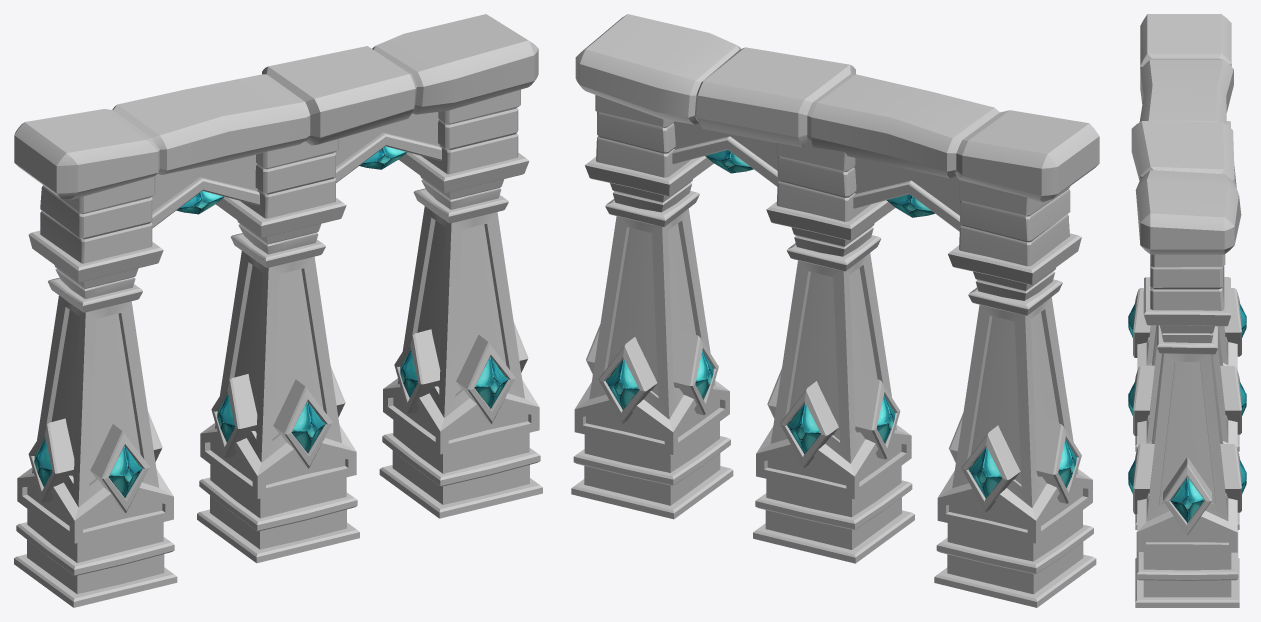
File: Moonset_FBX_colonnade_2.fbx
3 renders of one model, left to right at view 1: azimuth 30°, elevation 25°; view 2: azimuth 150°, elevation 25°; view 3: azimuth 270°, elevation 25°, orthographic. The views are drawn at different scales.
Visible parts, largest first — view 1: Colonade_02; view 2: Colonade_02; view 3: Colonade_02.
Boxes of the visible parts, x1,y1,x2,y2 form: Colonade_02: (14, 14, 542, 607); Colonade_02: (571, 14, 1099, 607); Colonade_02: (1128, 14, 1246, 607).
Bounding box in the file's own units: 10.63 × 9.4 × 2.55.
